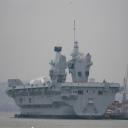Portanaves: (5, 18, 123, 121)
